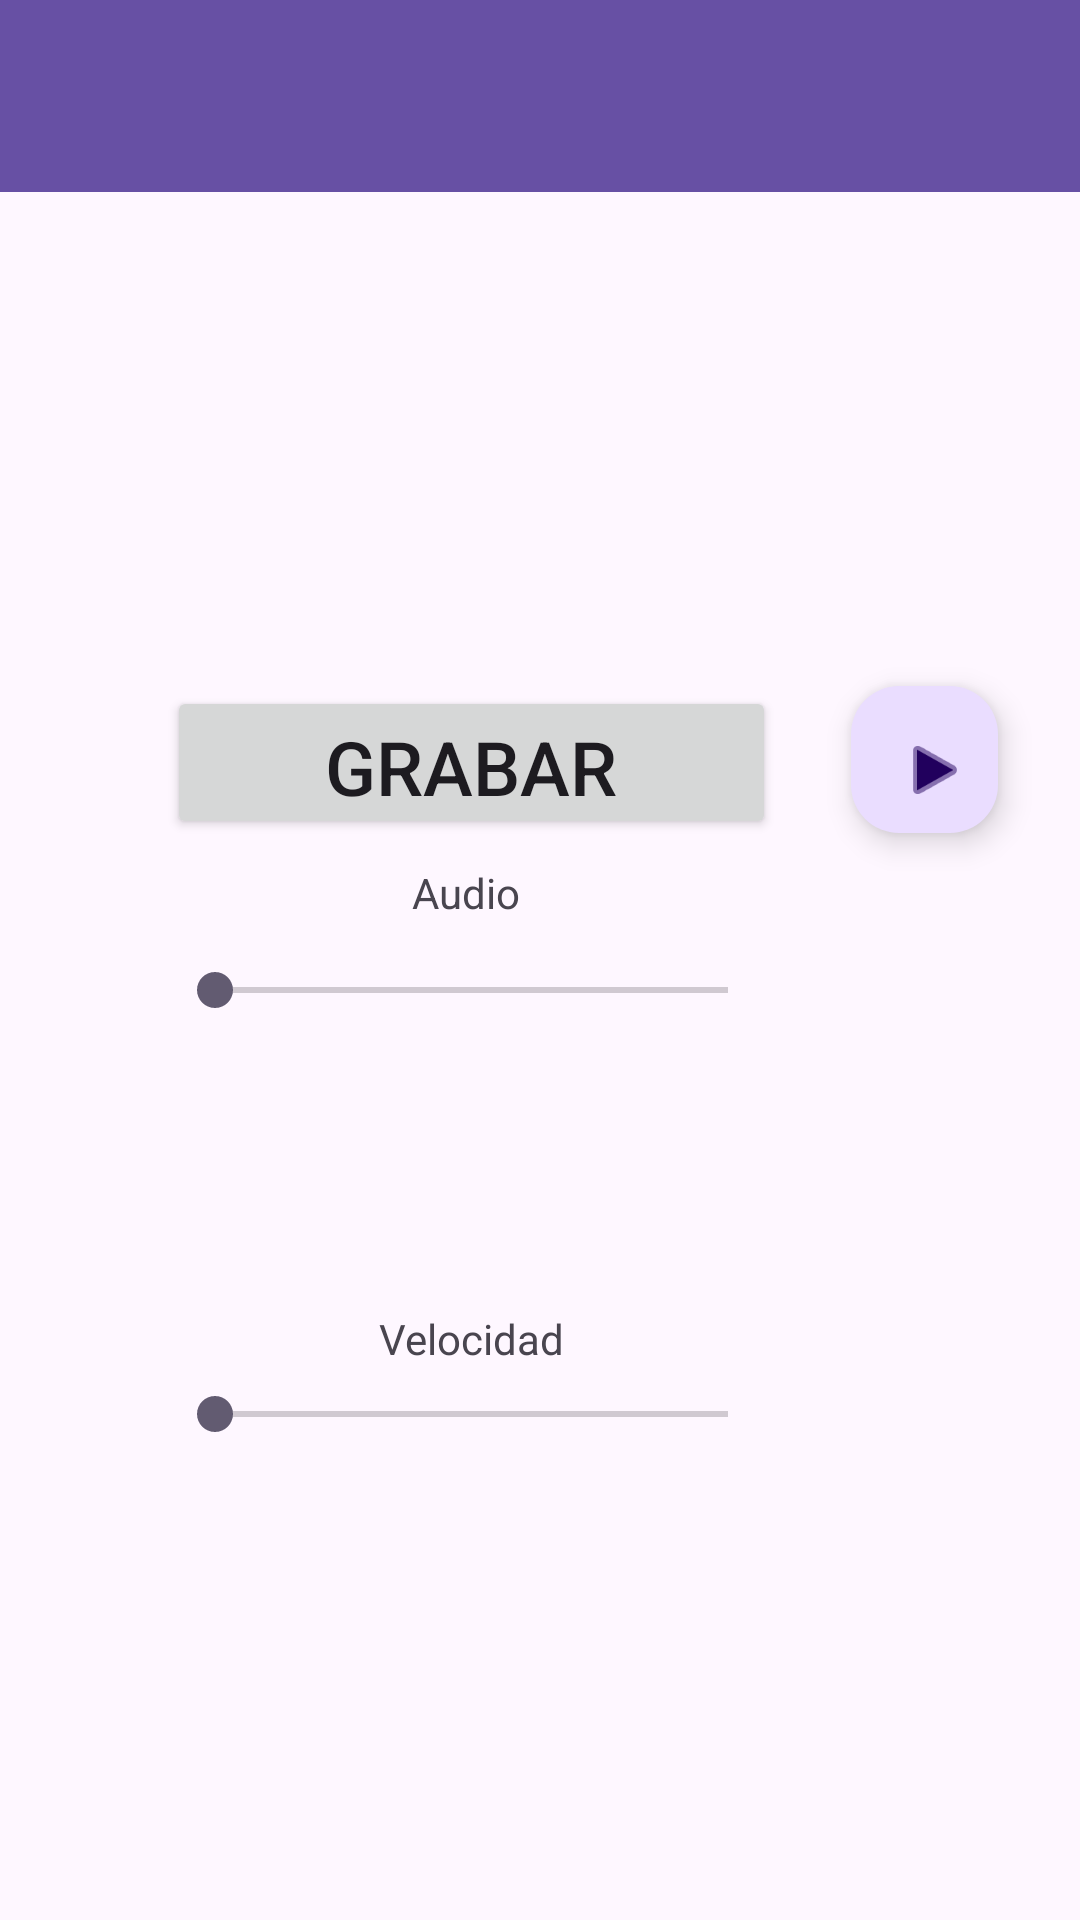

Locate icon controls on the screen. Image size 1080x1920, boxes as (x1, y1, x2, y2).
play: (851, 686, 998, 833)
